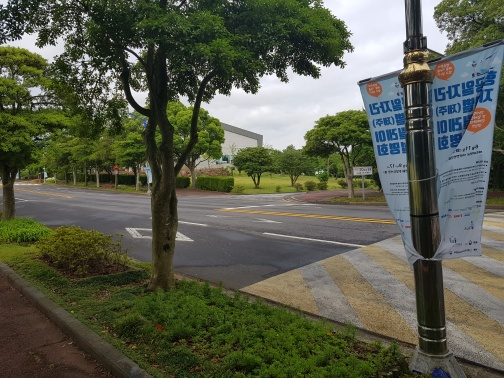Gym: (190, 120, 266, 177)
